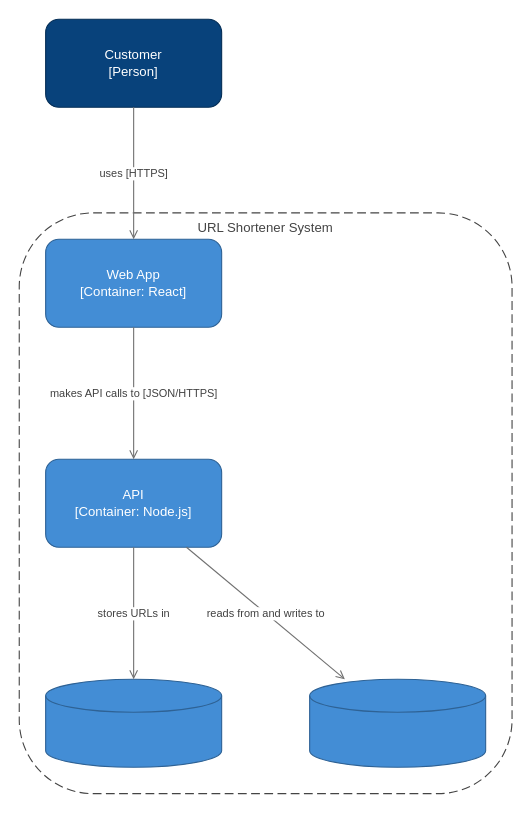
This 531x813 diagram has some shape labels left out. Each missing label, with the centre of its shape:
"Postgres [Container: PostgreSQL]" goes at point (133, 722).
"Redis Cache [Container: Redis]" goes at point (397, 722).
